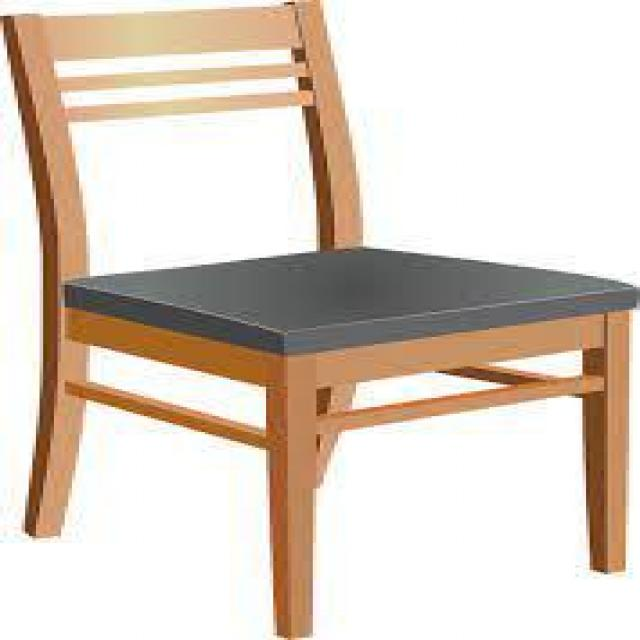chair: (4, 10, 636, 607)
